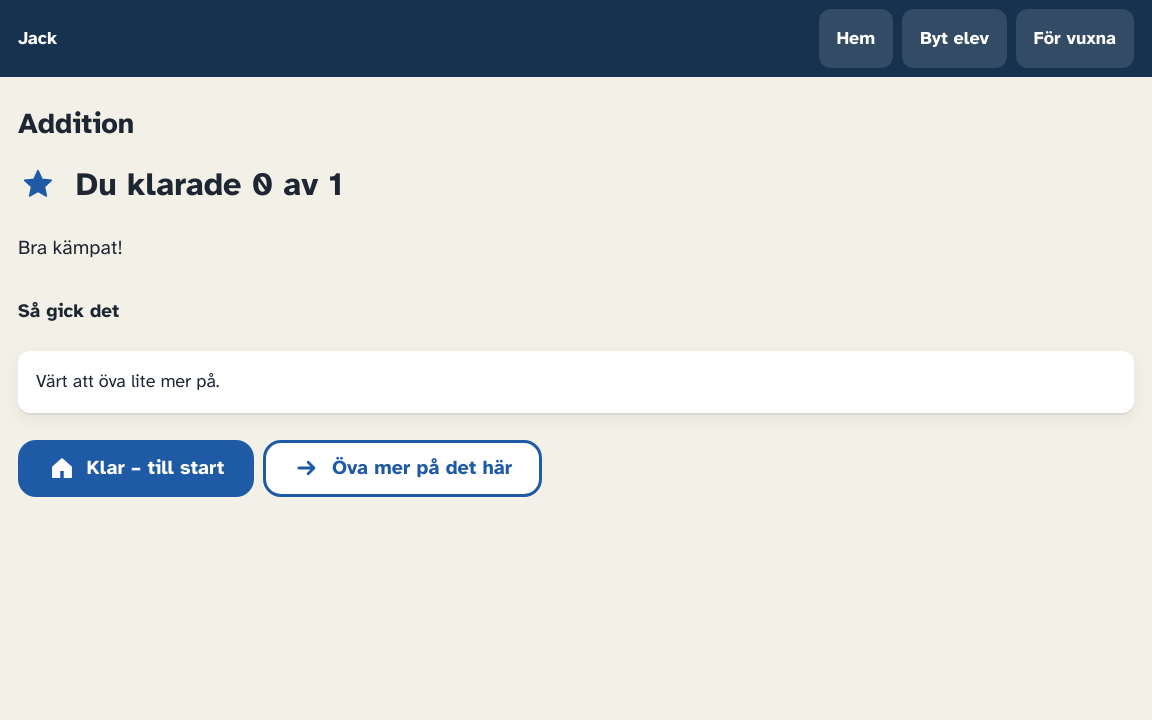
Test: requests and material (middle) › results end with "Klar – till start" and "Öva mer" opens a prefilled request
Expected: the button "Klar – till start" is shown, [18,440,254,497]
Click the button "Öva mer på det här": (403, 468) [263,440,542,497]
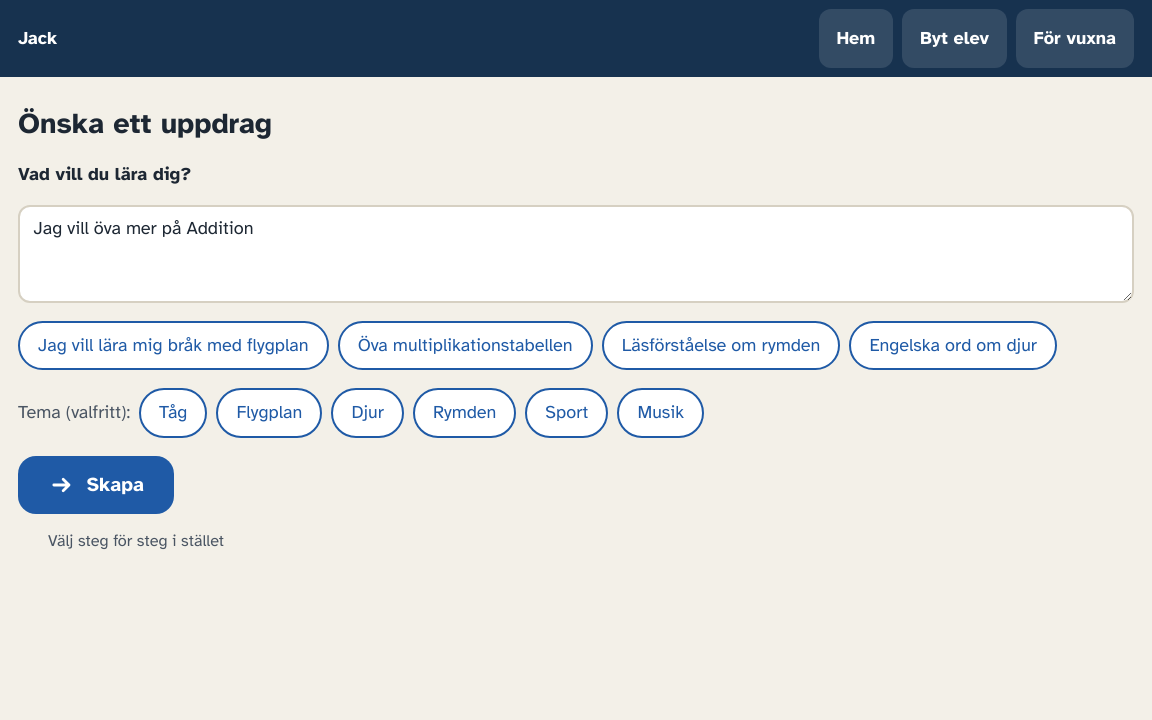
Expected: the text box labelled "Vad vill du lära dig?" holds "Jag vill öva mer på Addition", [18,205,1134,303]
